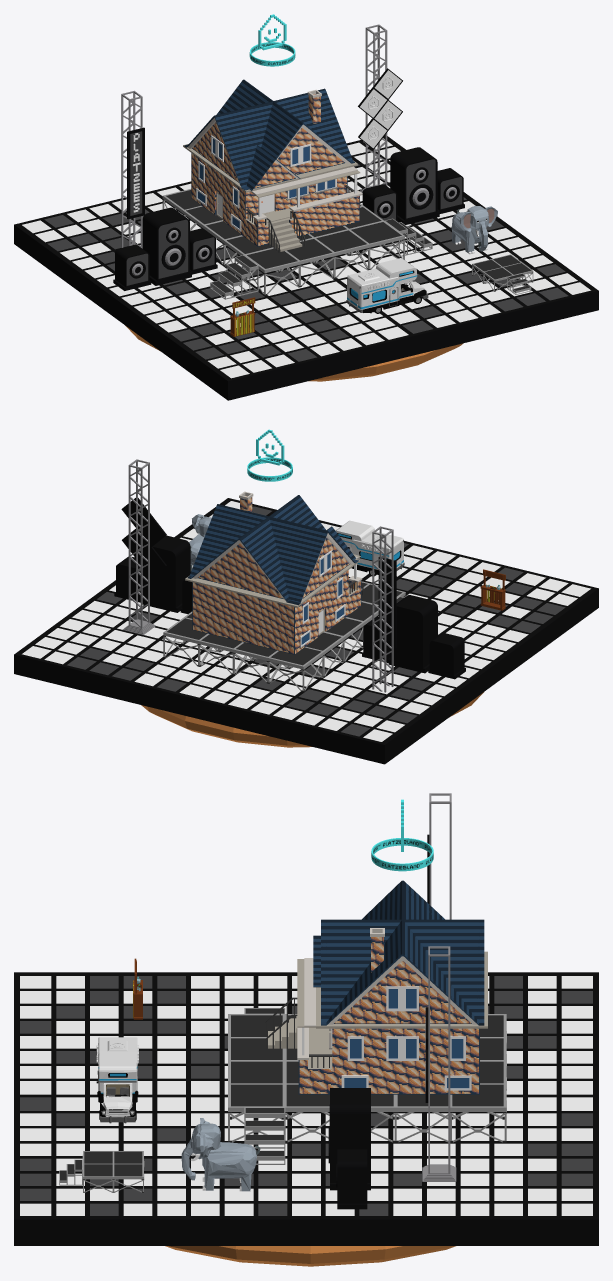
3 views of the same model, one above another, from view 1: azimuth 30°, elevation 25°; view 2: azimuth 150°, elevation 25°; view 3: azimuth 270°, elevation 25° (orthographic). The views are drawn at different scales.
Visible parts, largest first — view 1: Cube.008, Cube.430, VEHICLES_CAMPER, ANIMAL_ELEFANTE, UNDERGROUND_PIZZA, TYPE_PREMIUM, OBJRANDOM_LEMONADE_STAND; view 2: Cube.008, Cube.430, VEHICLES_CAMPER, UNDERGROUND_PIZZA, TYPE_PREMIUM, OBJRANDOM_LEMONADE_STAND, ANIMAL_ELEFANTE; view 3: Cube.008, Cube.430, UNDERGROUND_PIZZA, VEHICLES_CAMPER, ANIMAL_ELEFANTE, TYPE_PREMIUM.
Boxes of the visible parts, box(x1,y1,x2,y2) form: Cube.008: box(14, 24, 598, 400); Cube.430: box(183, 79, 362, 252); VEHICLES_CAMPER: box(346, 258, 428, 313); ANIMAL_ELEFANTE: box(451, 206, 497, 254); UNDERGROUND_PIZZA: box(125, 325, 463, 381); TYPE_PREMIUM: box(249, 14, 295, 66); OBJRANDOM_LEMONADE_STAND: box(230, 297, 255, 336); Cube.008: box(14, 459, 598, 764); Cube.430: box(185, 491, 363, 654); VEHICLES_CAMPER: box(336, 520, 404, 576); UNDERGROUND_PIZZA: box(141, 692, 483, 747); TYPE_PREMIUM: box(247, 429, 292, 481); OBJRANDOM_LEMONADE_STAND: box(480, 569, 505, 610); ANIMAL_ELEFANTE: box(189, 514, 211, 571); Cube.008: box(14, 793, 598, 1245); Cube.430: box(265, 880, 487, 1094); UNDERGROUND_PIZZA: box(165, 1246, 455, 1266); VEHICLES_CAMPER: box(96, 1037, 138, 1123); ANIMAL_ELEFANTE: box(181, 1118, 260, 1191); TYPE_PREMIUM: box(371, 799, 433, 871).
Bounding box in the file's own units: 4000 × 2723 × 4000.
Materials: 50 (3 with a texture image).
